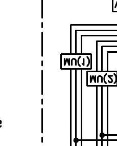MU: (60, 53, 92, 70)
